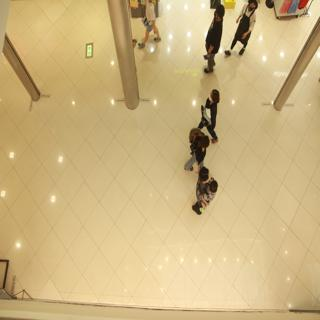person: (230, 1, 261, 64), (187, 163, 220, 221), (201, 1, 226, 74), (182, 124, 212, 173), (202, 89, 227, 144)
